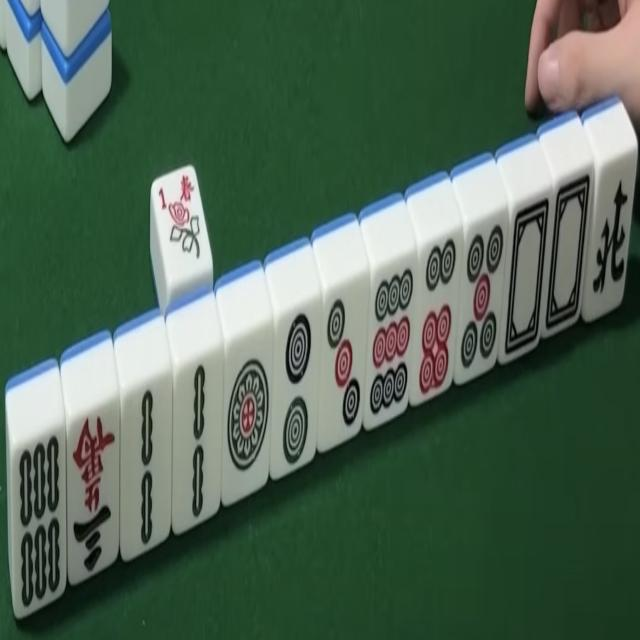bai: (504, 188, 550, 366), (548, 170, 589, 330)
ff1: (150, 170, 209, 282)
m3: (67, 404, 118, 582)
north: (587, 162, 632, 310)
s2: (123, 366, 168, 561), (176, 342, 217, 530)
s6: (8, 425, 64, 619)
t1: (220, 328, 275, 498)
t2: (276, 294, 318, 476)
t3: (324, 282, 363, 437)
t5: (459, 205, 507, 382)
t6: (418, 226, 457, 408)
t9: (366, 259, 417, 428)
